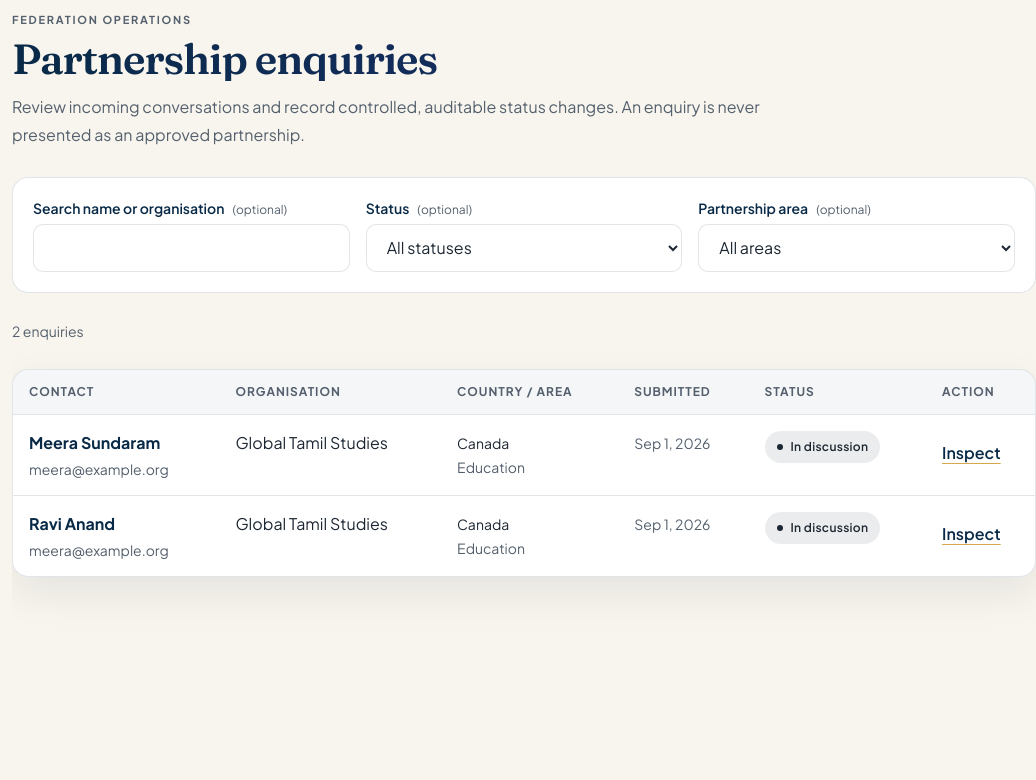
Test: AdminPartnershipOperations › filters by the search box
In the search field labelled "Search name or organisation (optional)": (191, 248) [33,224,350,272], type "ravi"
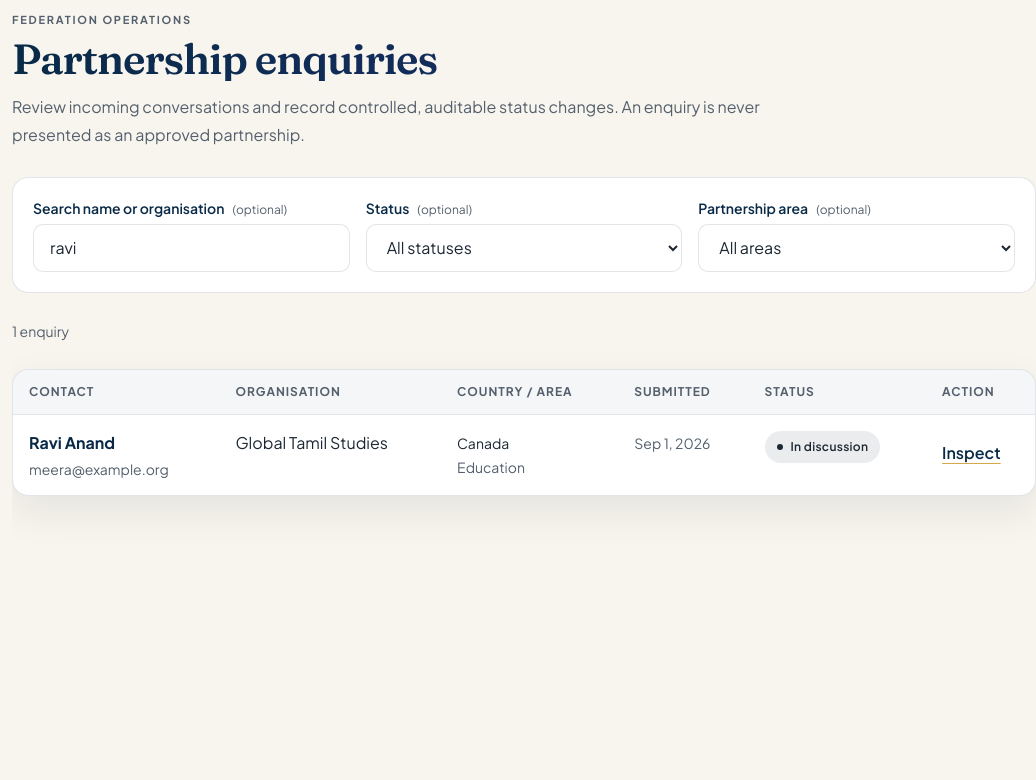
Expected: the text "Ravi Anand" is shown, [29,432,115,453]
Expected: the text "Meera Sundaram" is not shown
